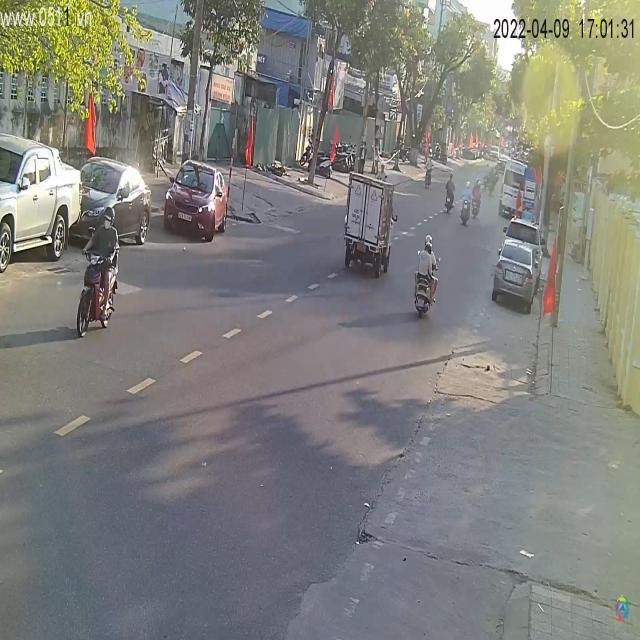car: (1, 131, 84, 278), (79, 159, 155, 247), (164, 162, 228, 242), (492, 240, 542, 316)
motorcycle: (74, 242, 122, 343), (414, 270, 438, 318)
truck: (344, 174, 396, 278)
